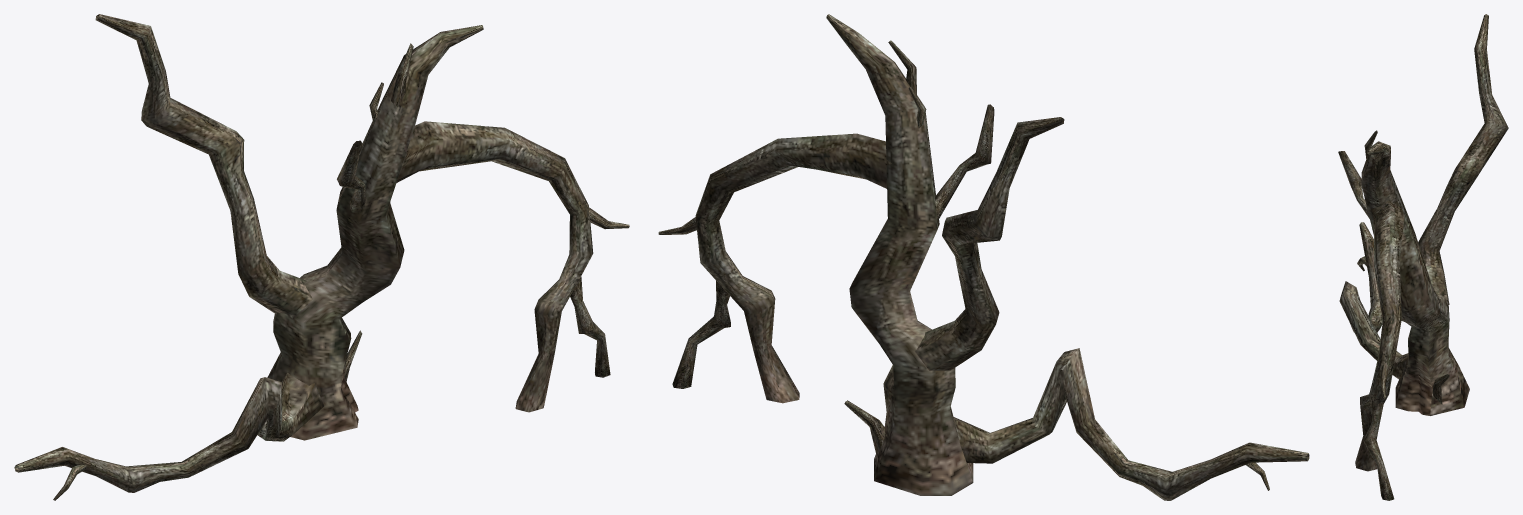
The model's file is deadwood_01.fbx.
3 renders of one model, left to right at view 1: azimuth 30°, elevation 25°; view 2: azimuth 150°, elevation 25°; view 3: azimuth 270°, elevation 25°, orthographic. The views are drawn at different scales.
Parts seen in each view (by area): view 1: deadwood_01; view 2: deadwood_01; view 3: deadwood_01.
Boxes of the visible parts, x1,y1,x2,y2 form: deadwood_01: (14, 14, 629, 500); deadwood_01: (658, 14, 1309, 500); deadwood_01: (1338, 14, 1508, 500).
Bounding box in the file's own units: 12.36 × 7.89 × 3.81.
